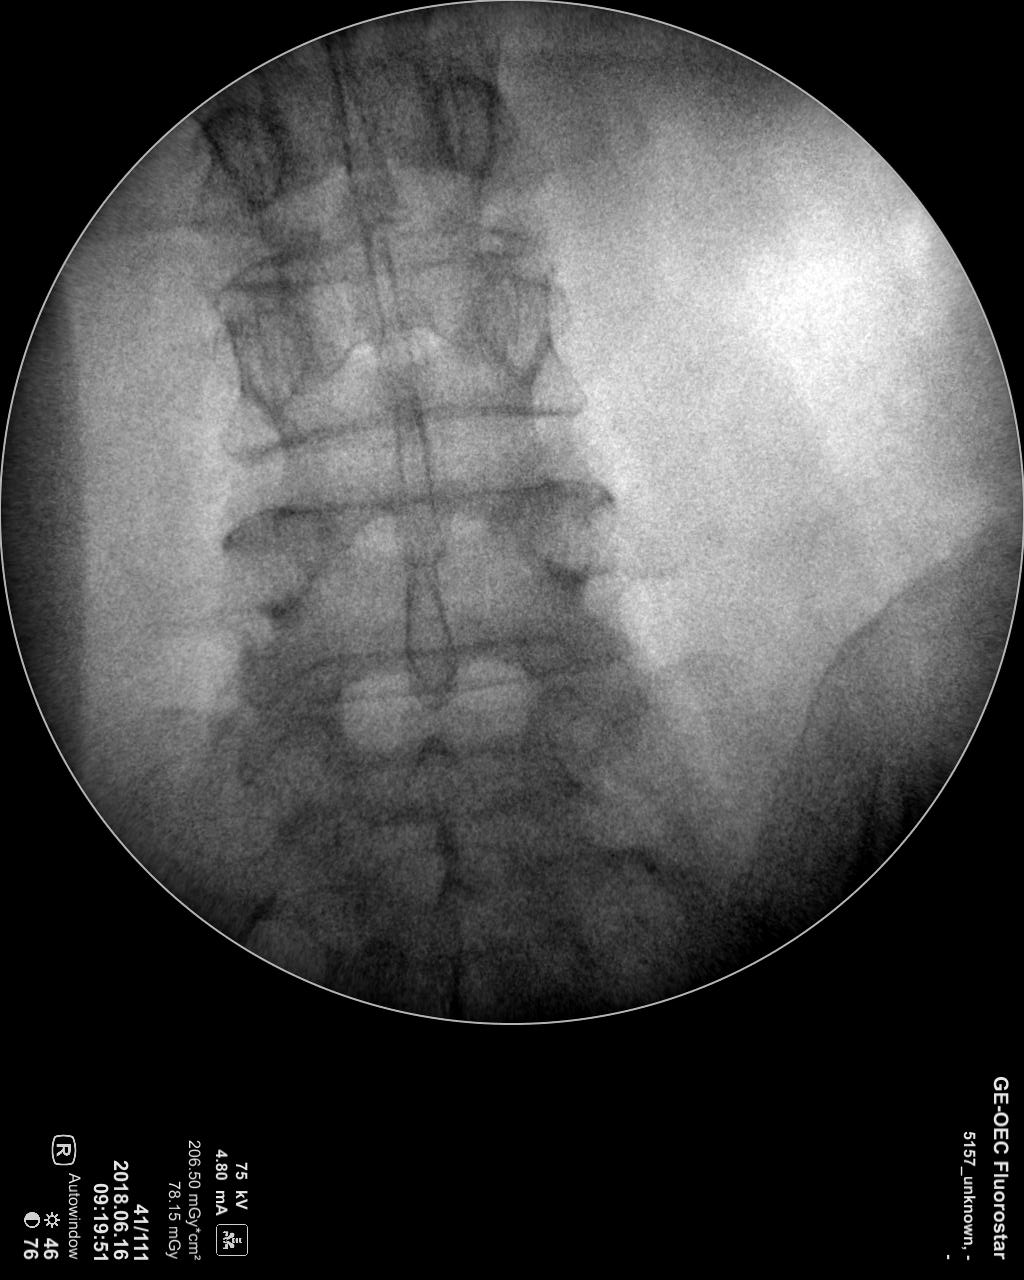eyes: (508, 473, 627, 590), (220, 501, 327, 619), (462, 261, 566, 380), (421, 65, 516, 180), (222, 301, 315, 411), (204, 101, 287, 209)
nose: (343, 219, 433, 396), (377, 390, 453, 565), (325, 50, 400, 226), (396, 559, 468, 707)
